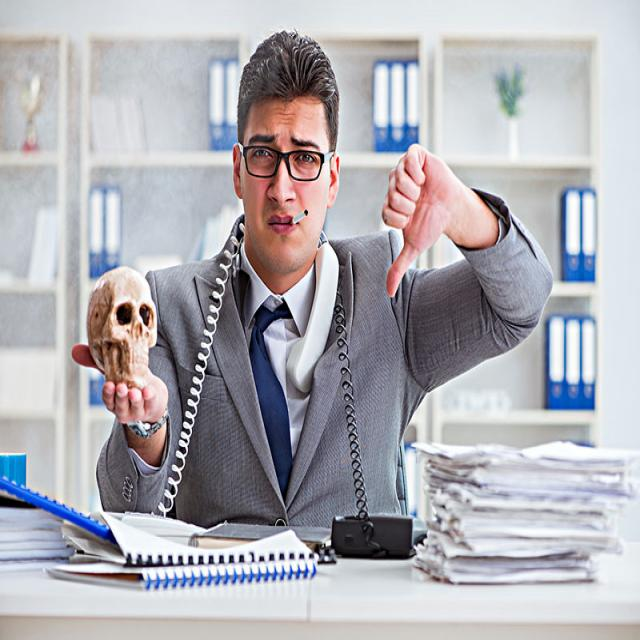smoking: (290, 205, 311, 228)
